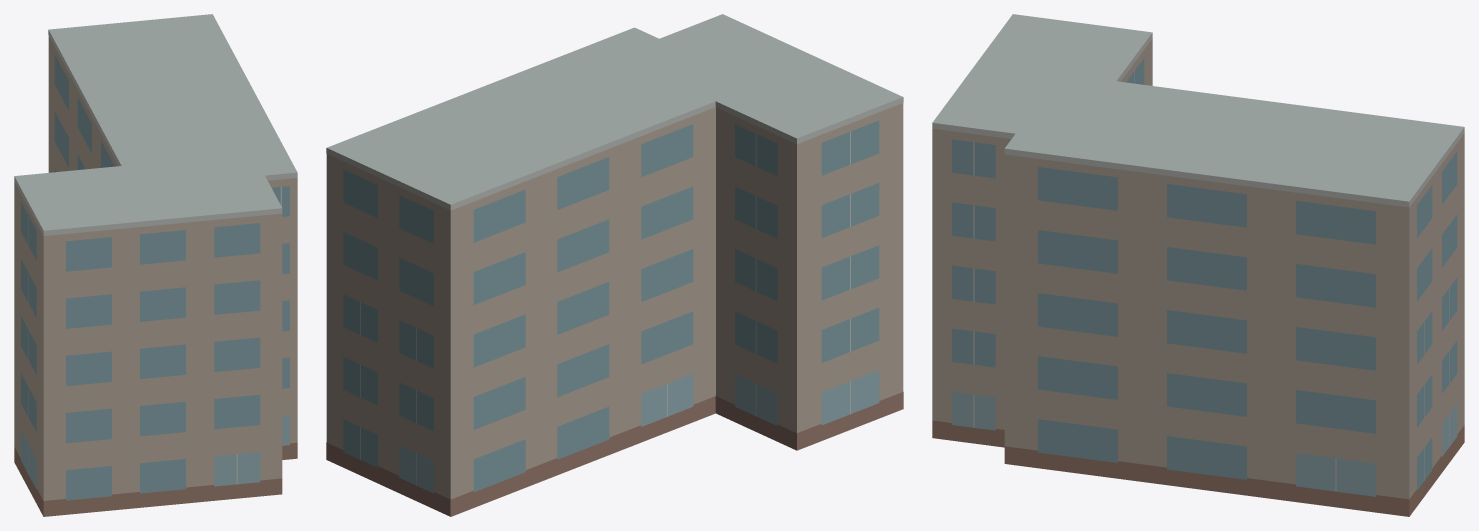
File: survey-upis-32624584.glb
3 renders of one model, left to right at view 1: azimuth 30°, elevation 25°; view 2: azimuth 150°, elevation 25°; view 3: azimuth 270°, elevation 25°, orthographic. The views are drawn at different scales.
Visible parts, largest first — view 1: survey-upis-32624584.tmp; view 2: survey-upis-32624584.tmp; view 3: survey-upis-32624584.tmp.
Part boxes in pixels (left/top/right/bottom): survey-upis-32624584.tmp: left=14, top=14, right=297, bottom=516; survey-upis-32624584.tmp: left=326, top=14, right=903, bottom=516; survey-upis-32624584.tmp: left=932, top=14, right=1464, bottom=516.
Bounding box in the file's own units: 16.86 × 13.2 × 20.21.
